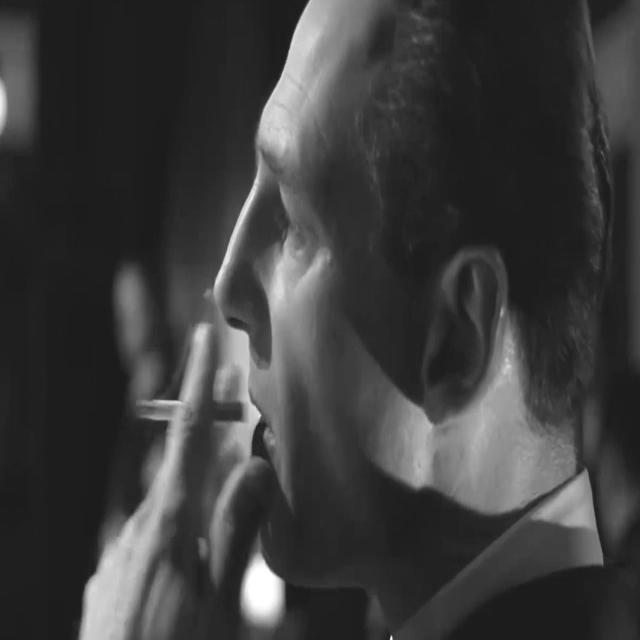Smooking: (130, 396, 252, 438)
